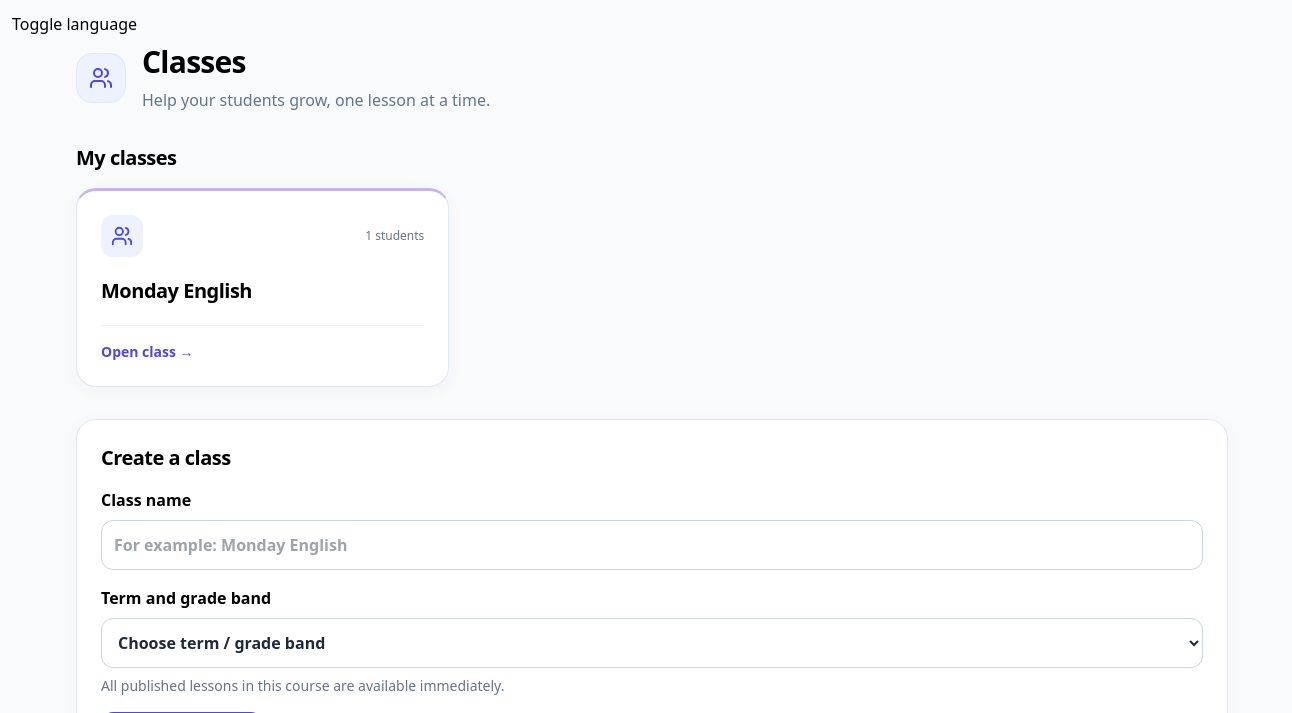
Test: teacher sees the Classes banner only on the class list
Expected: the heading "Classes" is shown, [142,41,246,82]
What coordinates should you click on to do the following:
click the button "1 students Monday English Open class →"
I would click on:
 (122, 236)
Its box is [76,188,449,387].
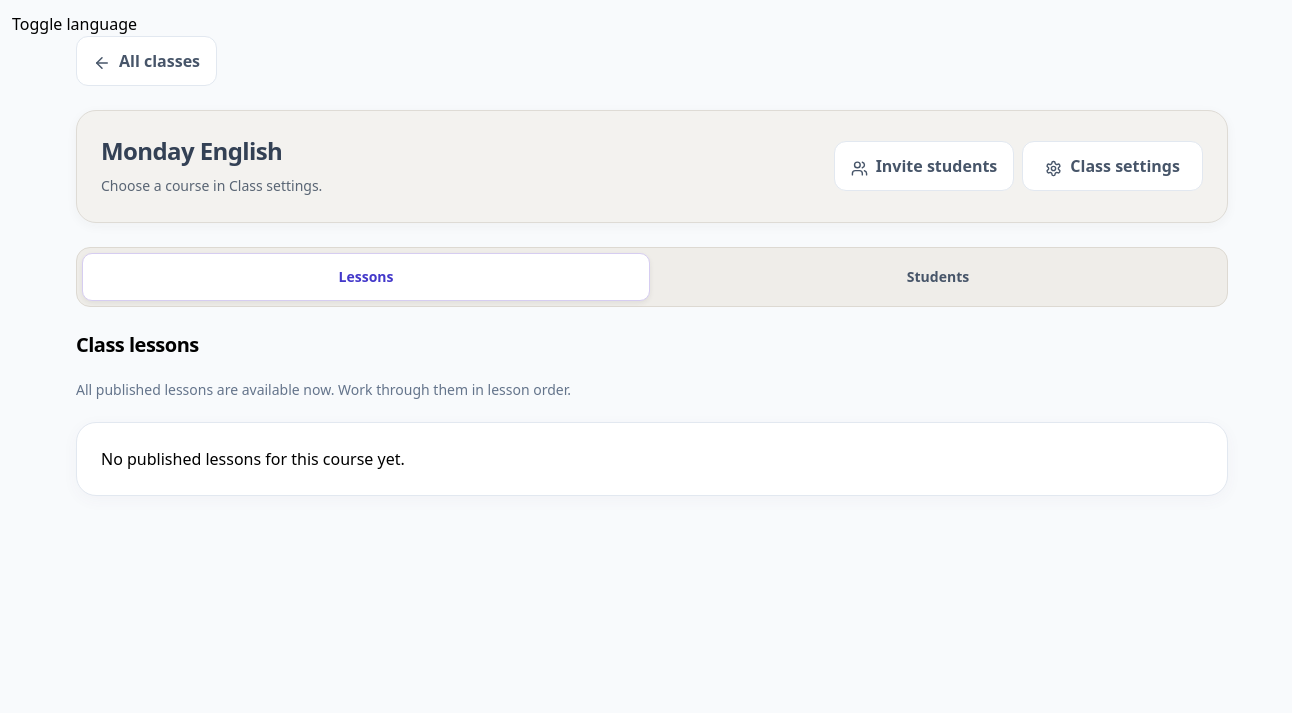
Expected: the heading "Monday English" is shown, [101,134,282,167]
Expected: the heading "Class lessons" is shown, [76,331,199,359]
Expected: the text "Help your students grow, one lesson at a time." is gone
What coordinates should you click on to do the following:
click the button "All classes"
I would click on:
 (146, 61)
Its box is [76,36,217,86].
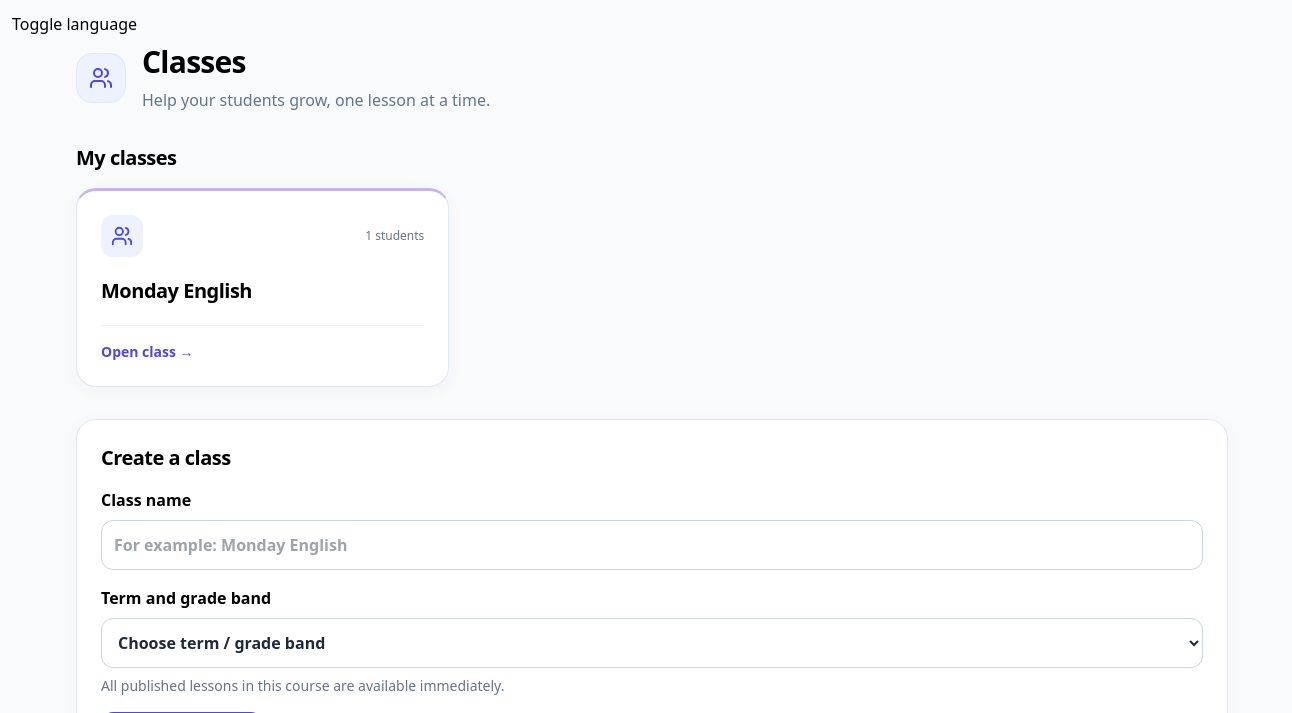
Expected: the heading "My classes" is shown, [76,144,176,171]
Expected: the heading "Classes" is shown, [142,41,246,82]
